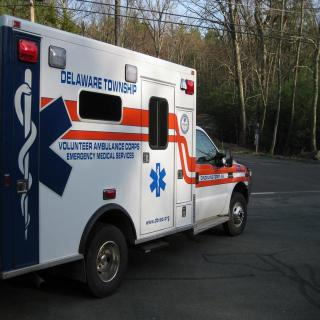Ambulance: (0, 14, 270, 300)
